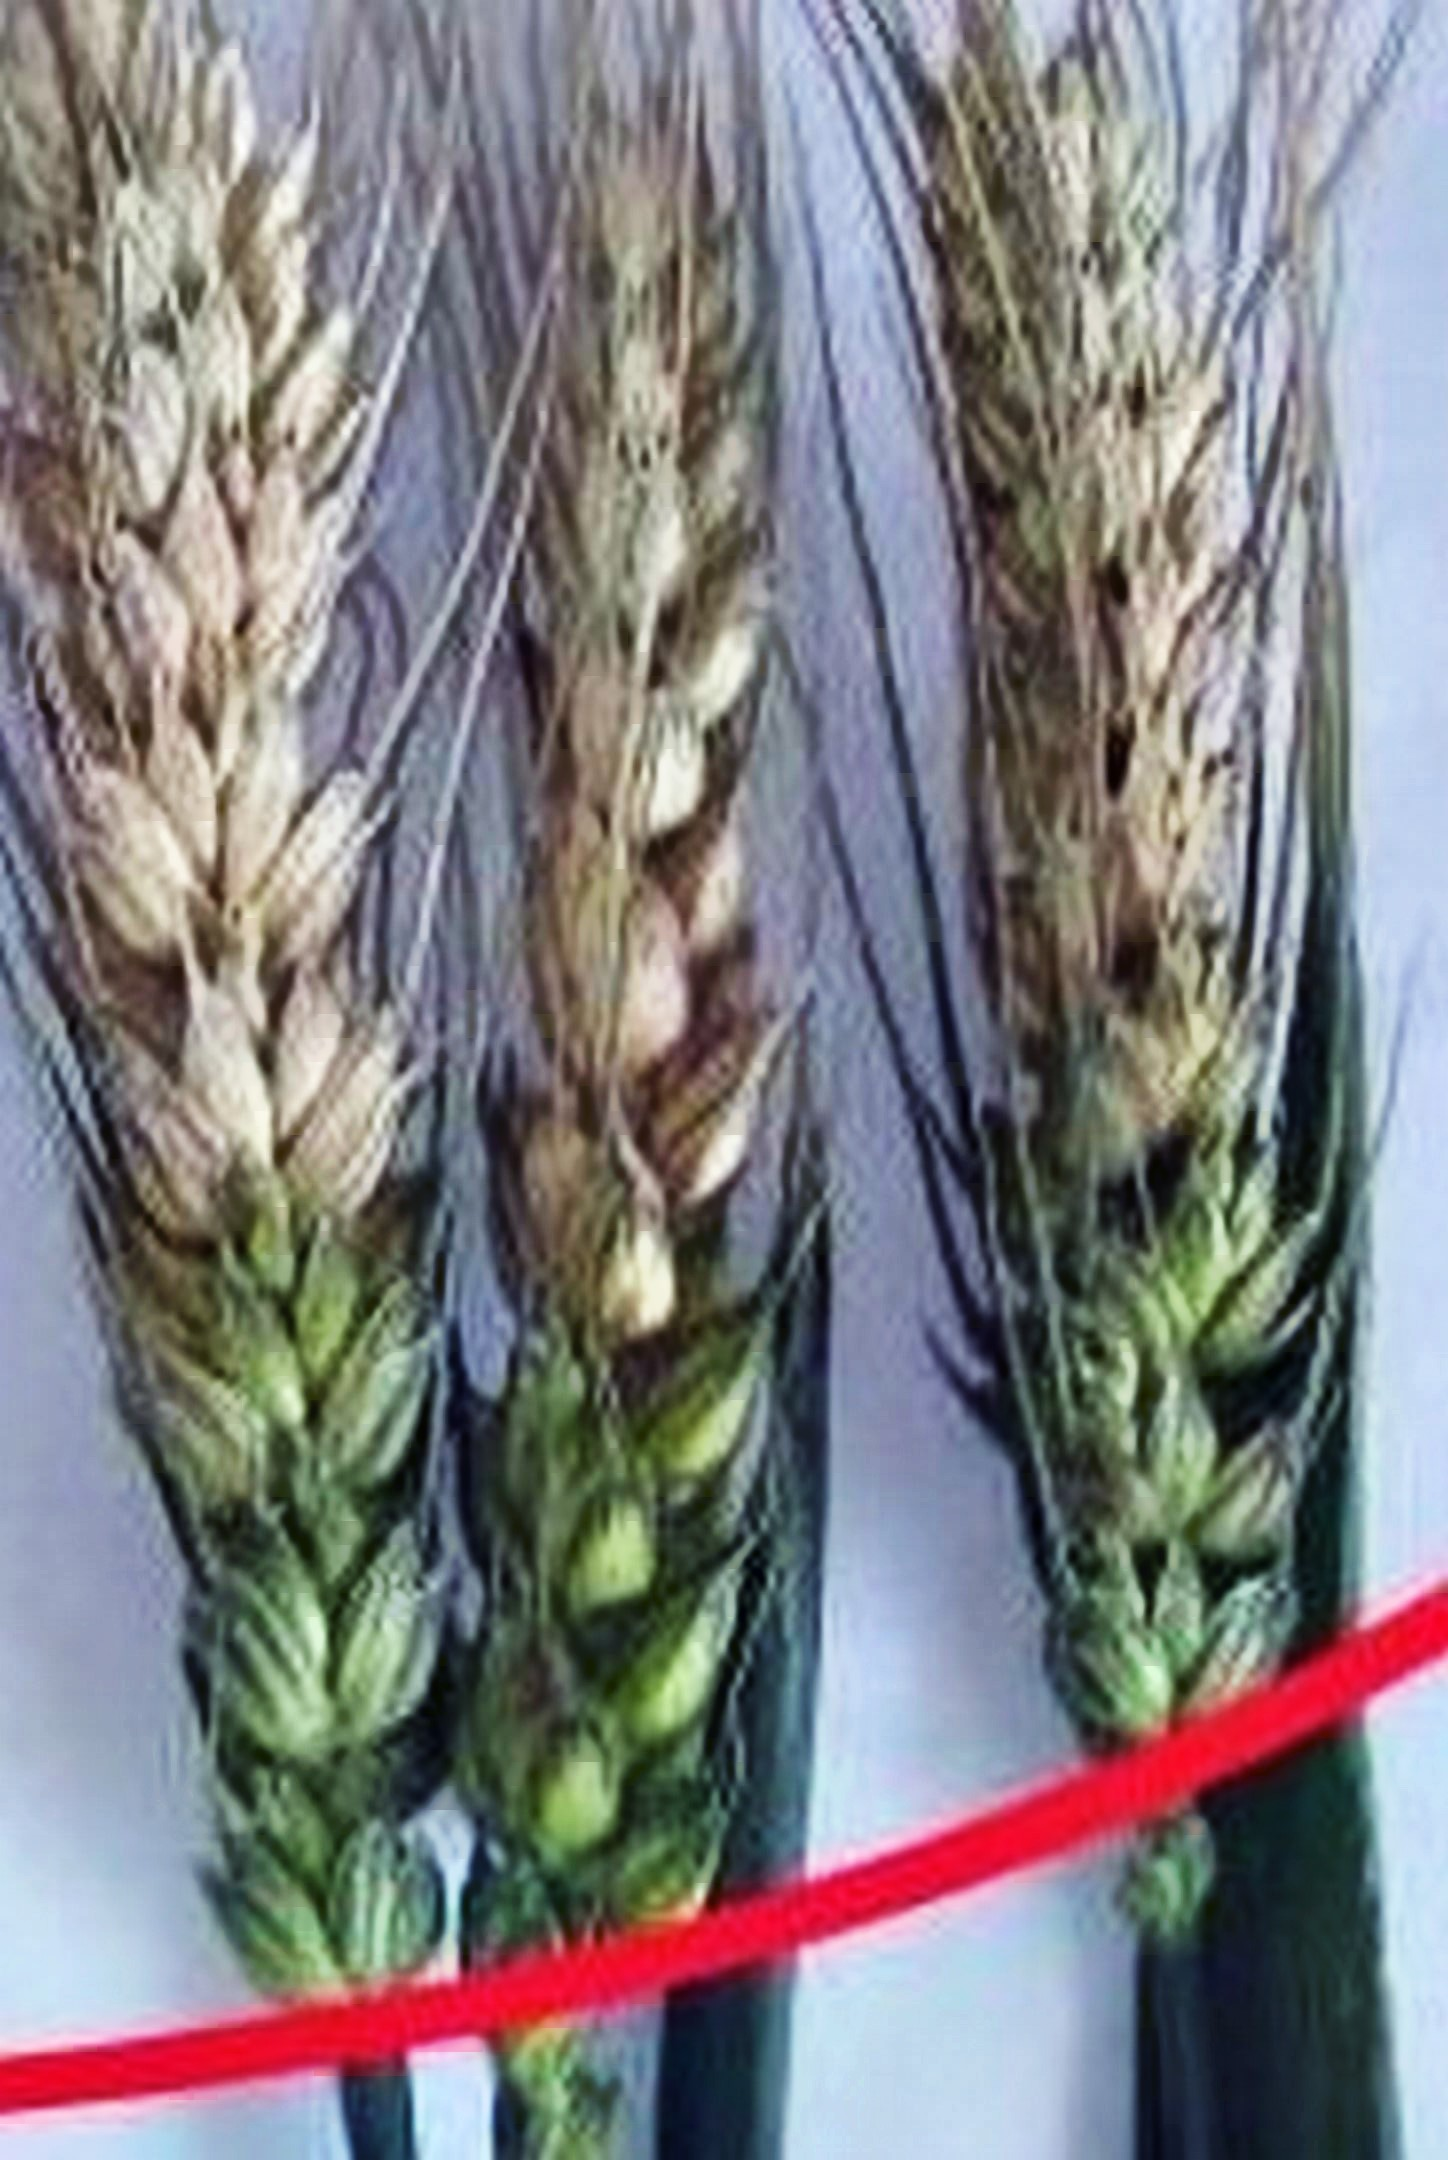Wheat scab: (887, 84, 1357, 1819), (31, 73, 452, 1977), (486, 137, 806, 2058)
